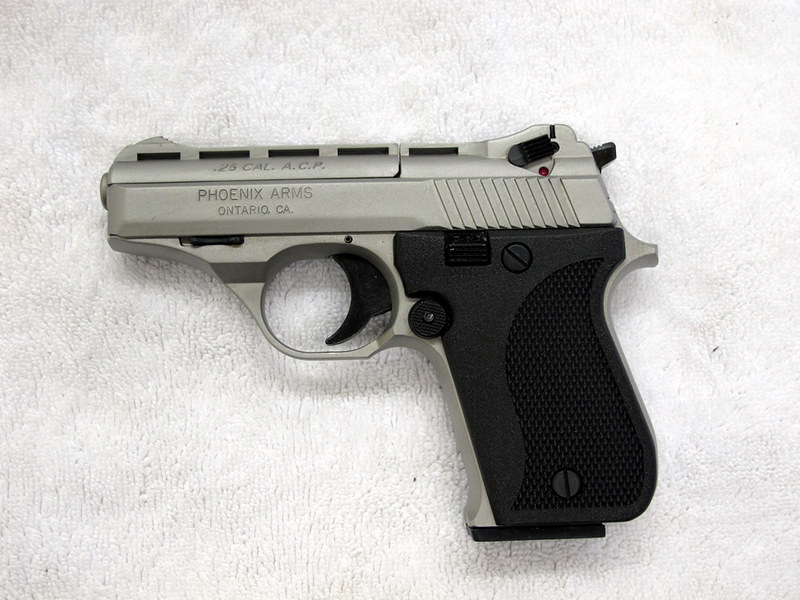gun: (81, 116, 686, 547)
